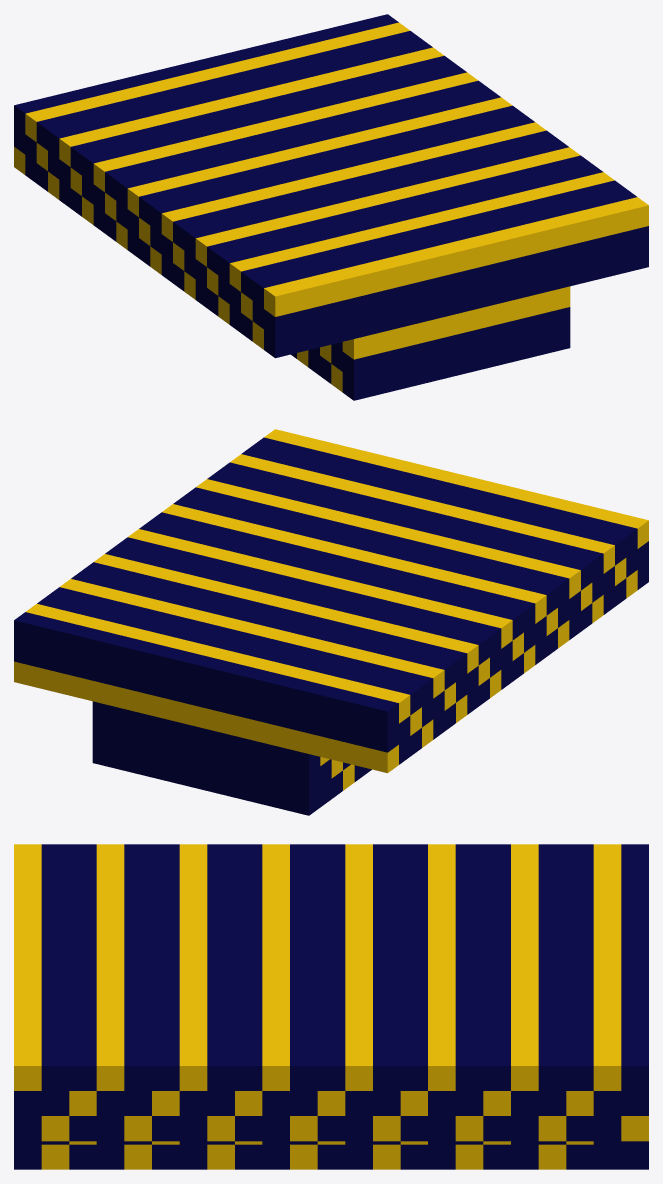
The model's file is TankDriveSeat.obj.
The picture shows the model from 3 angles, top to bottom: view 1: azimuth 30°, elevation 25°; view 2: azimuth 150°, elevation 25°; view 3: azimuth 270°, elevation 25°; orthographic projection. The views are drawn at different scales.
Bounding box in the file's own units: 19 × 6 × 23.
Materials: 1 (1 with a texture image).
